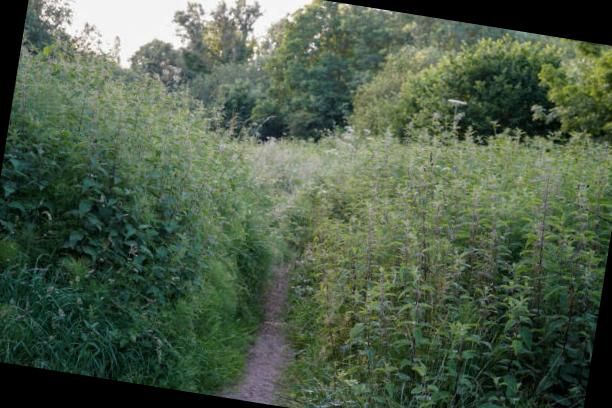overgrown grass: (282, 138, 612, 408), (0, 53, 228, 391), (183, 153, 273, 396), (254, 139, 360, 215)
